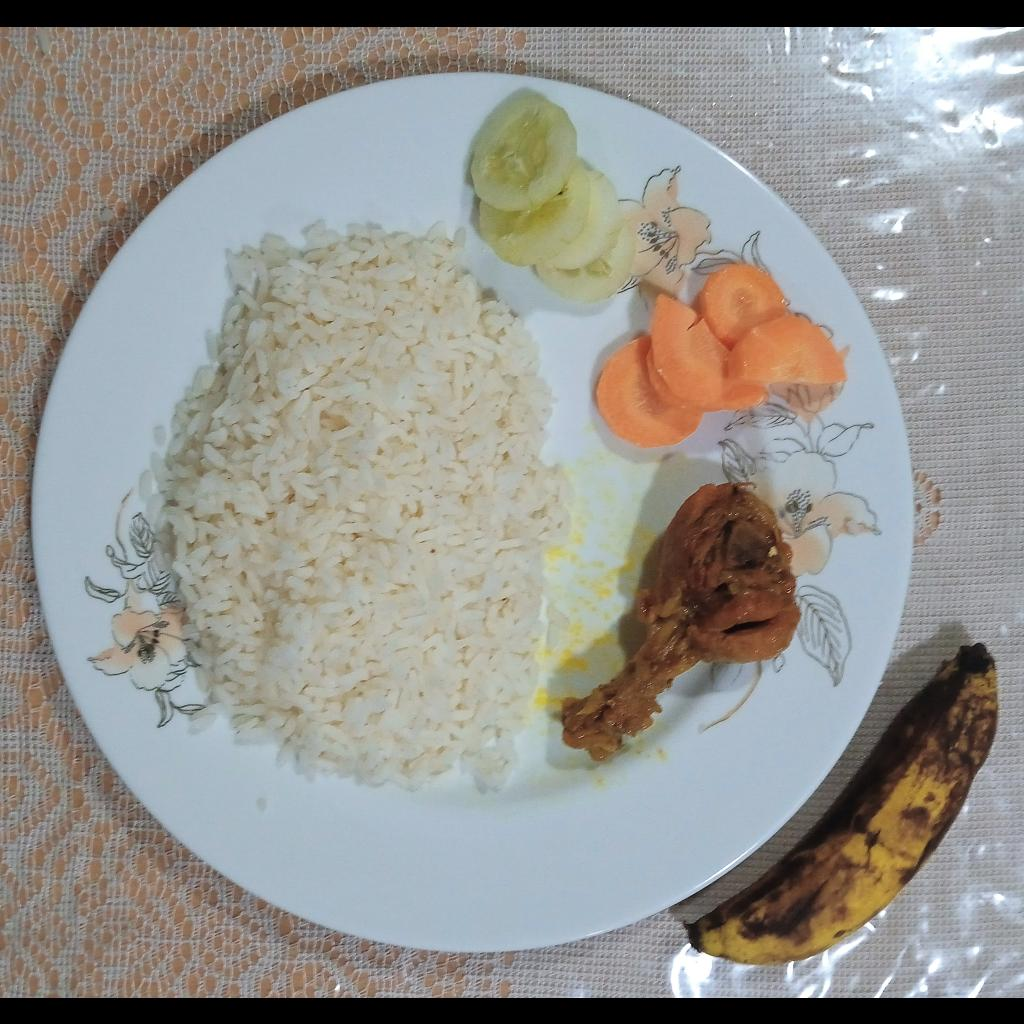banana: (685, 641, 998, 967)
carrot: (595, 263, 849, 449)
chicken: (557, 480, 803, 765)
cucumber: (471, 95, 634, 304)
rice: (141, 213, 577, 805)
